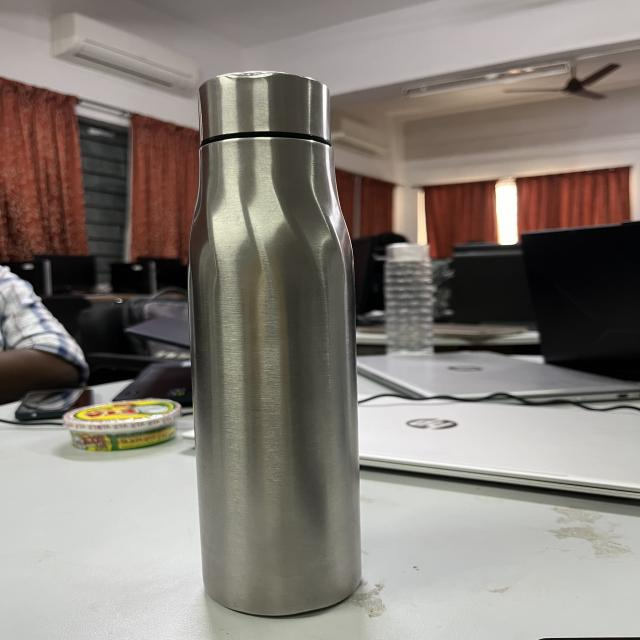L3: (170, 49, 390, 622)
